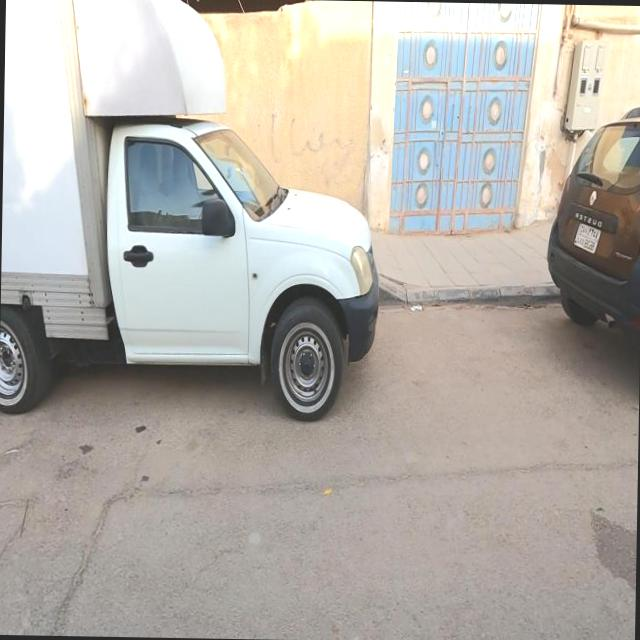debris: (374, 232, 460, 364)
